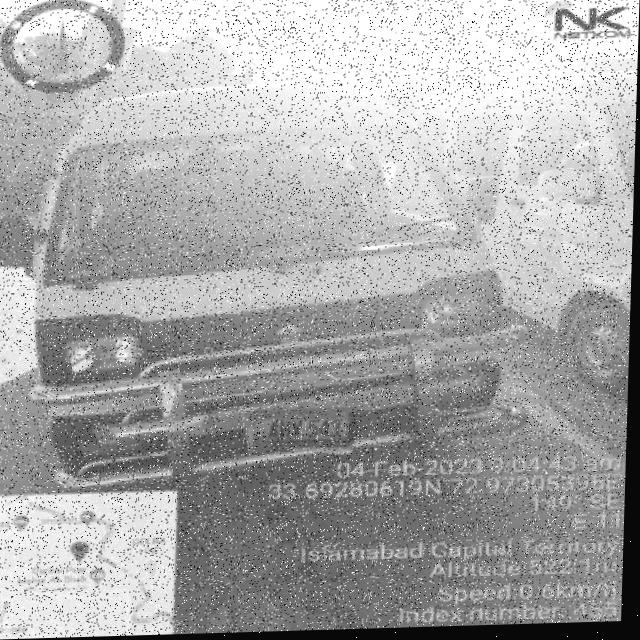LicensePlate: (255, 409, 360, 457)
